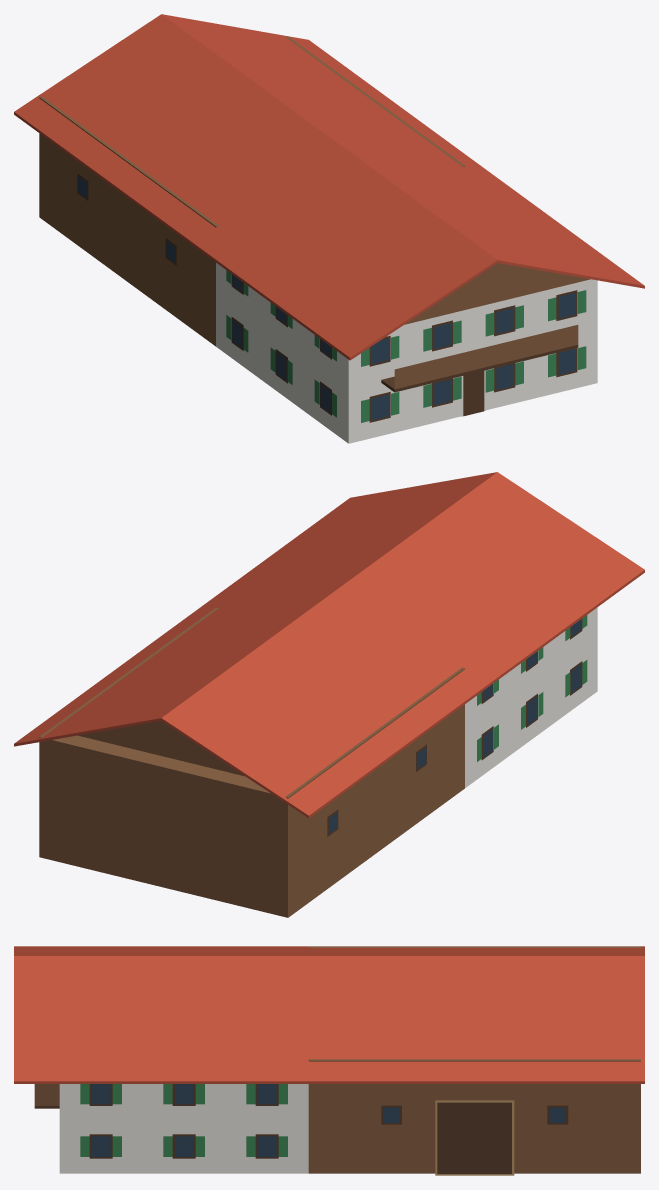
File: ferme_bavaroise.glb
The picture shows the model from 3 angles, top to bottom: view 1: azimuth 30°, elevation 25°; view 2: azimuth 150°, elevation 25°; view 3: azimuth 270°, elevation 25°; orthographic projection. The views are drawn at different scales.
Parts seen in each view (by area): view 1: ferme_bavaroise; view 2: ferme_bavaroise; view 3: ferme_bavaroise.
Boxes of the visible parts, <box> form: ferme_bavaroise: <box>14,14,644,443</box>; ferme_bavaroise: <box>14,472,644,917</box>; ferme_bavaroise: <box>14,946,644,1175</box>.
Bounding box in the file's own units: 15.4 × 8.64 × 30.4.
Materials: 1 (1 with a texture image).
